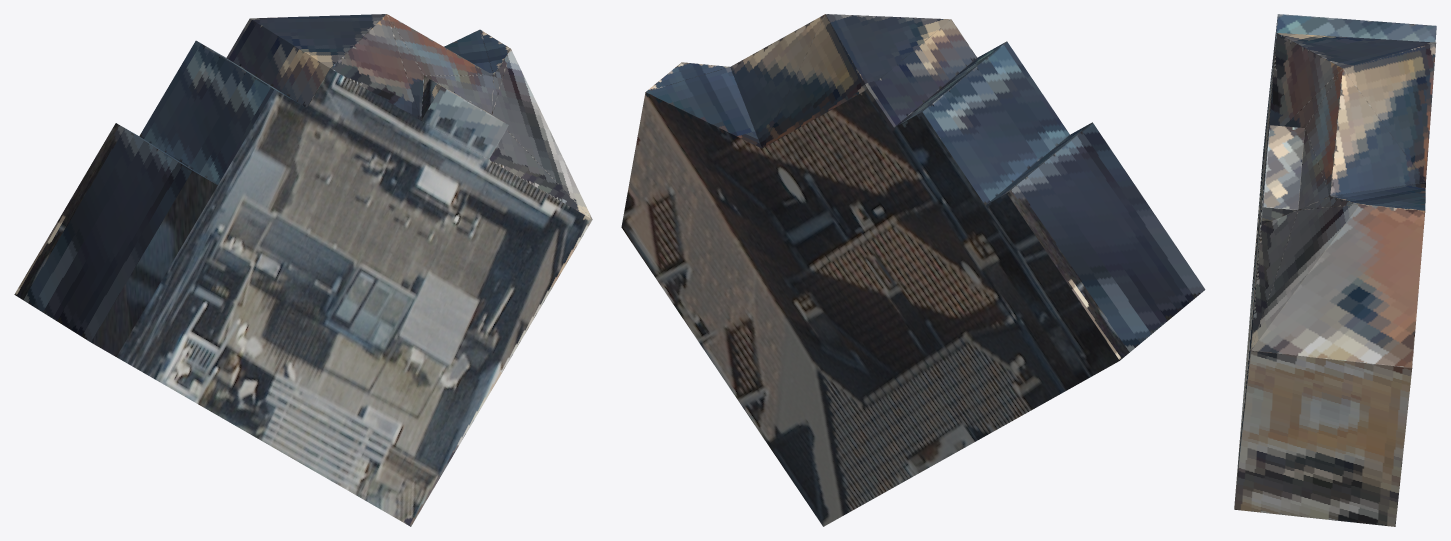
3 renders of one model, left to right at view 1: azimuth 30°, elevation 25°; view 2: azimuth 150°, elevation 25°; view 3: azimuth 270°, elevation 25°, orthographic. The views are drawn at different scales.
Parts seen in each view (by area): view 1: BAG_0599100000671718 (×5); view 2: BAG_0599100000671718 (×5); view 3: BAG_0599100000671718 (×5).
Boxes of the visible parts, x1=… form: BAG_0599100000671718 (×5): x1=14, y1=14, x2=592, y2=526; BAG_0599100000671718 (×5): x1=621, y1=14, x2=1205, y2=526; BAG_0599100000671718 (×5): x1=1234, y1=14, x2=1436, y2=526.
Bounding box in the file's own units: 18.32 × 16.76 × 6.55.
Materials: 6 (6 with a texture image).
